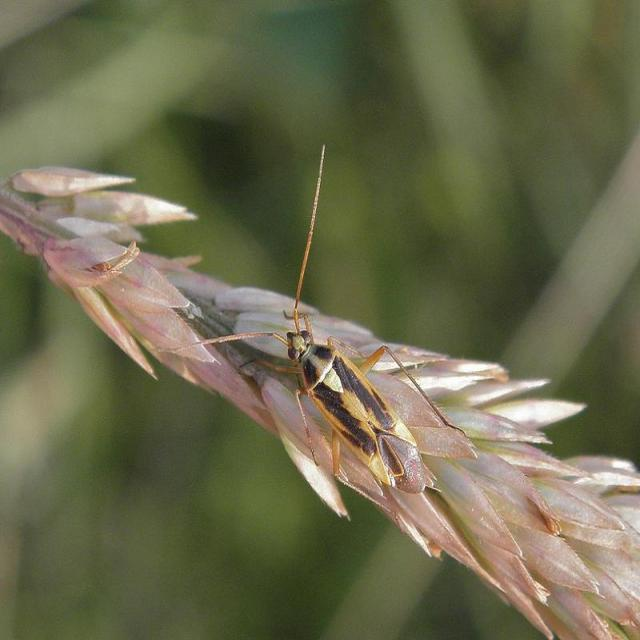Miridae-Adult-: (194, 144, 476, 493)
